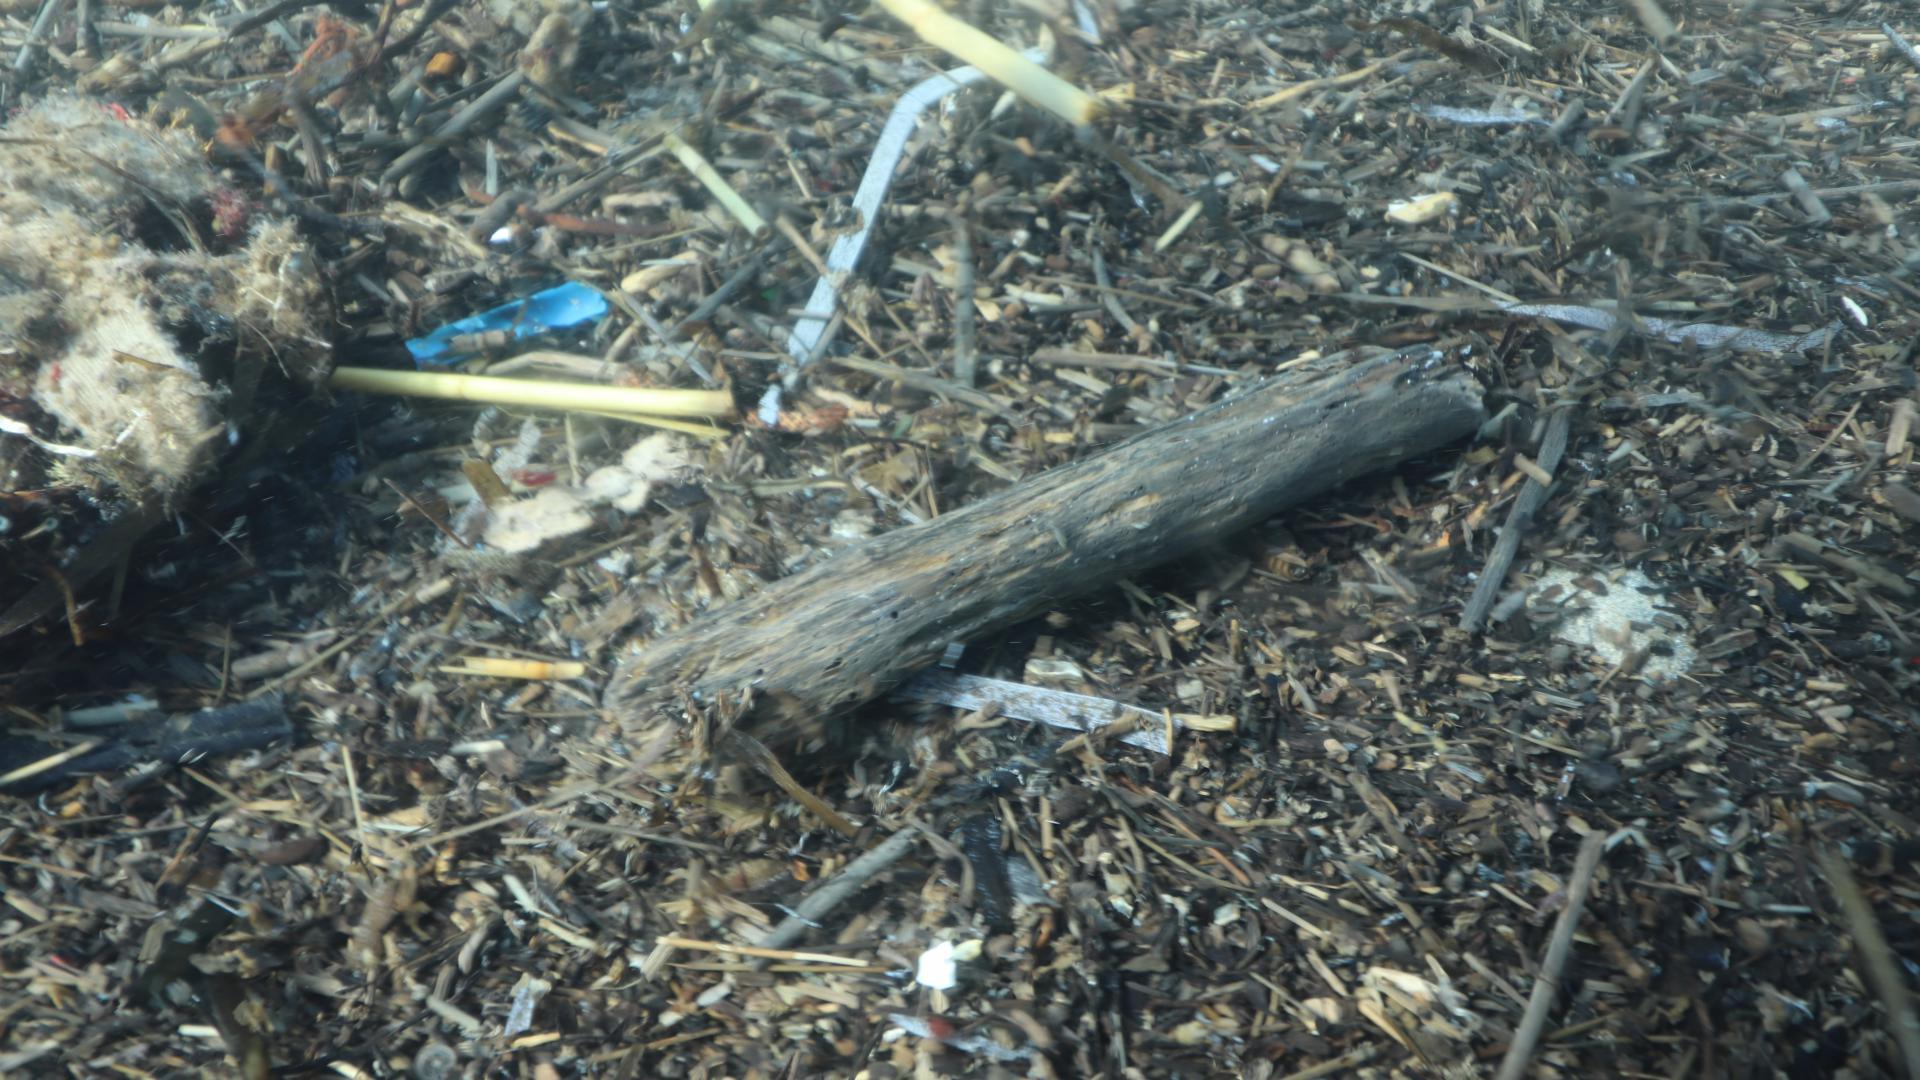wood: (603, 331, 1501, 775)
